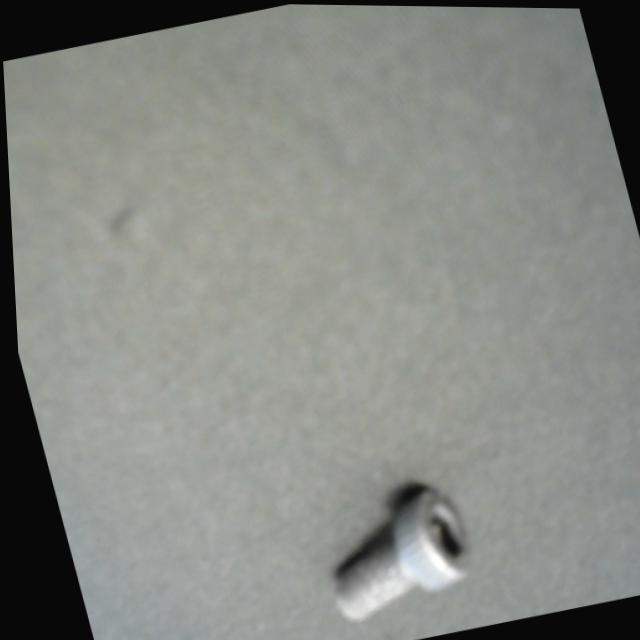SocketHeadCapScrew: (293, 456, 490, 637)
